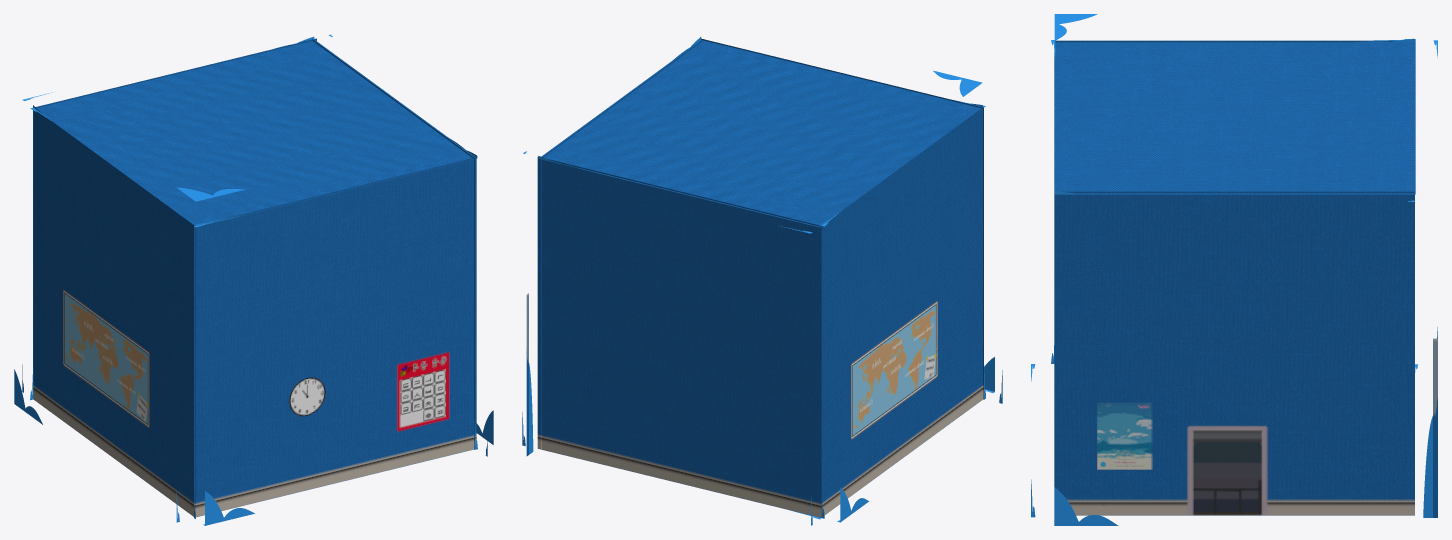
File: map3.FBX
The picture shows the model from 3 angles, left to right: view 1: azimuth 30°, elevation 25°; view 2: azimuth 150°, elevation 25°; view 3: azimuth 270°, elevation 25°; orthographic projection. The views are drawn at different scales.
Parts seen in each view (by area): view 1: wall_2; view 2: wall_2; view 3: wall_2.
Boxes of the visible parts, box(x1,y1,x2,y2) form: wall_2: box(14, 34, 493, 525); wall_2: box(522, 37, 1002, 525); wall_2: box(1031, 14, 1437, 525).
Bounding box in the file's own units: 1518 × 1446 × 1520.
